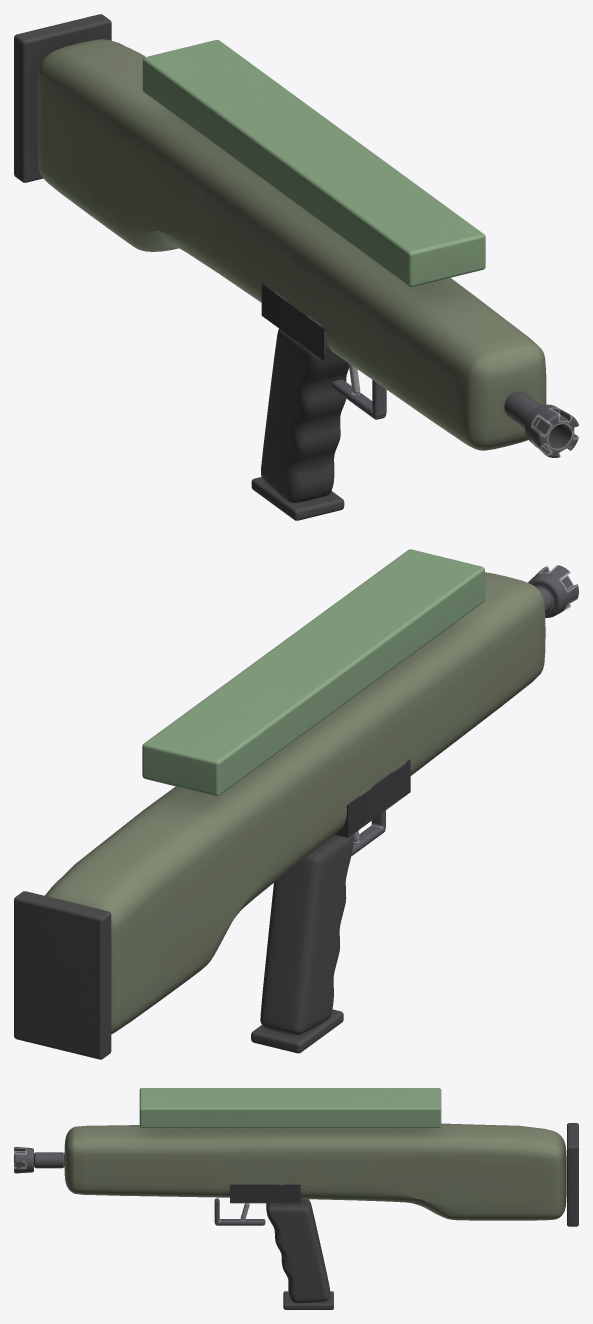
3 renders of one model, top to bottom at view 1: azimuth 30°, elevation 25°; view 2: azimuth 150°, elevation 25°; view 3: azimuth 270°, elevation 25°, orthographic. The views are drawn at different scales.
Parts seen in each view (by area): view 1: p90; view 2: p90; view 3: p90.
Part boxes in pixels (bbox=[...]): p90: bbox=[14, 14, 578, 520]; p90: bbox=[14, 549, 578, 1059]; p90: bbox=[14, 1088, 578, 1309].
Size of the model in its own units: 0.0578 by 0.2259 by 0.562.
